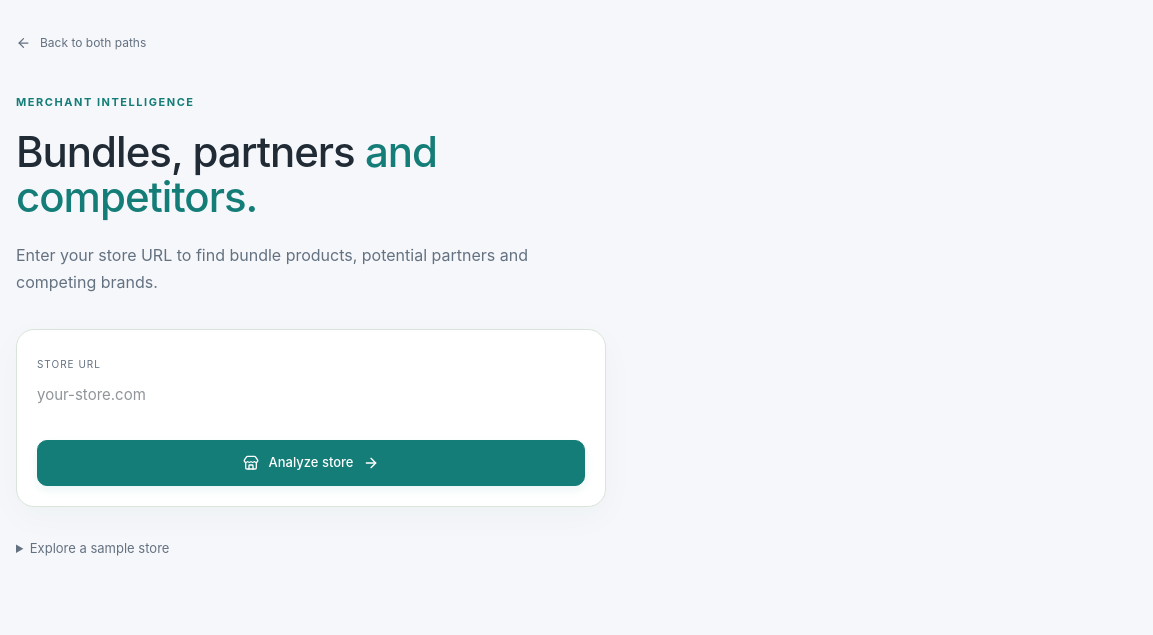
Scenario: MerchantWorkspace › labels inferred supply fit without observed pair support
The image size is (1153, 635).
Type "https://outfit-brand-1.example/" into the field named "Public store URL" at (311, 395), box [37, 374, 585, 416]
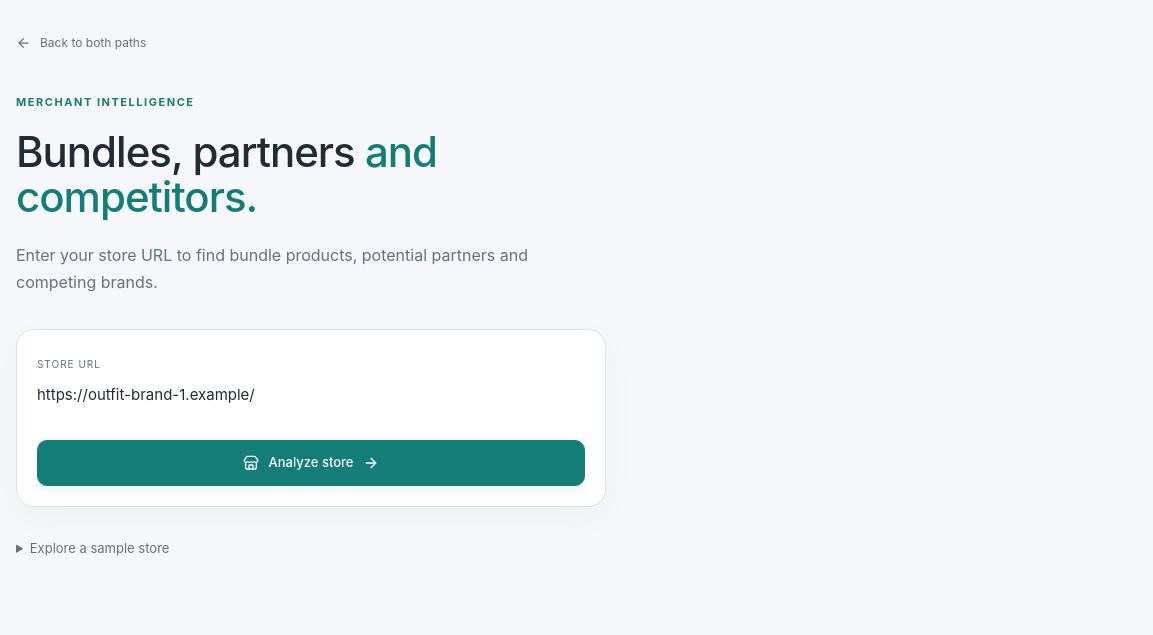
Click the button "Analyze store" at (311, 463), box [37, 440, 585, 486]
(page scrolled)
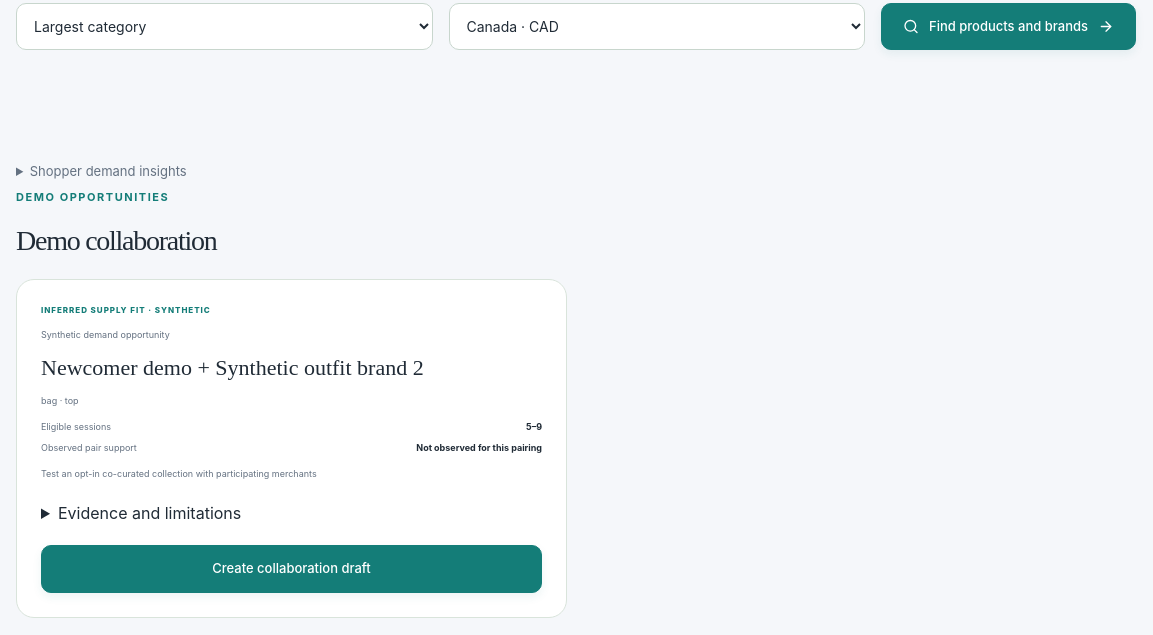
Expected: the text "Inferred supply fit · synthetic" is shown, [41, 305, 211, 315]
Expected: the text "Not observed for this pairing" is shown, [416, 441, 542, 455]
